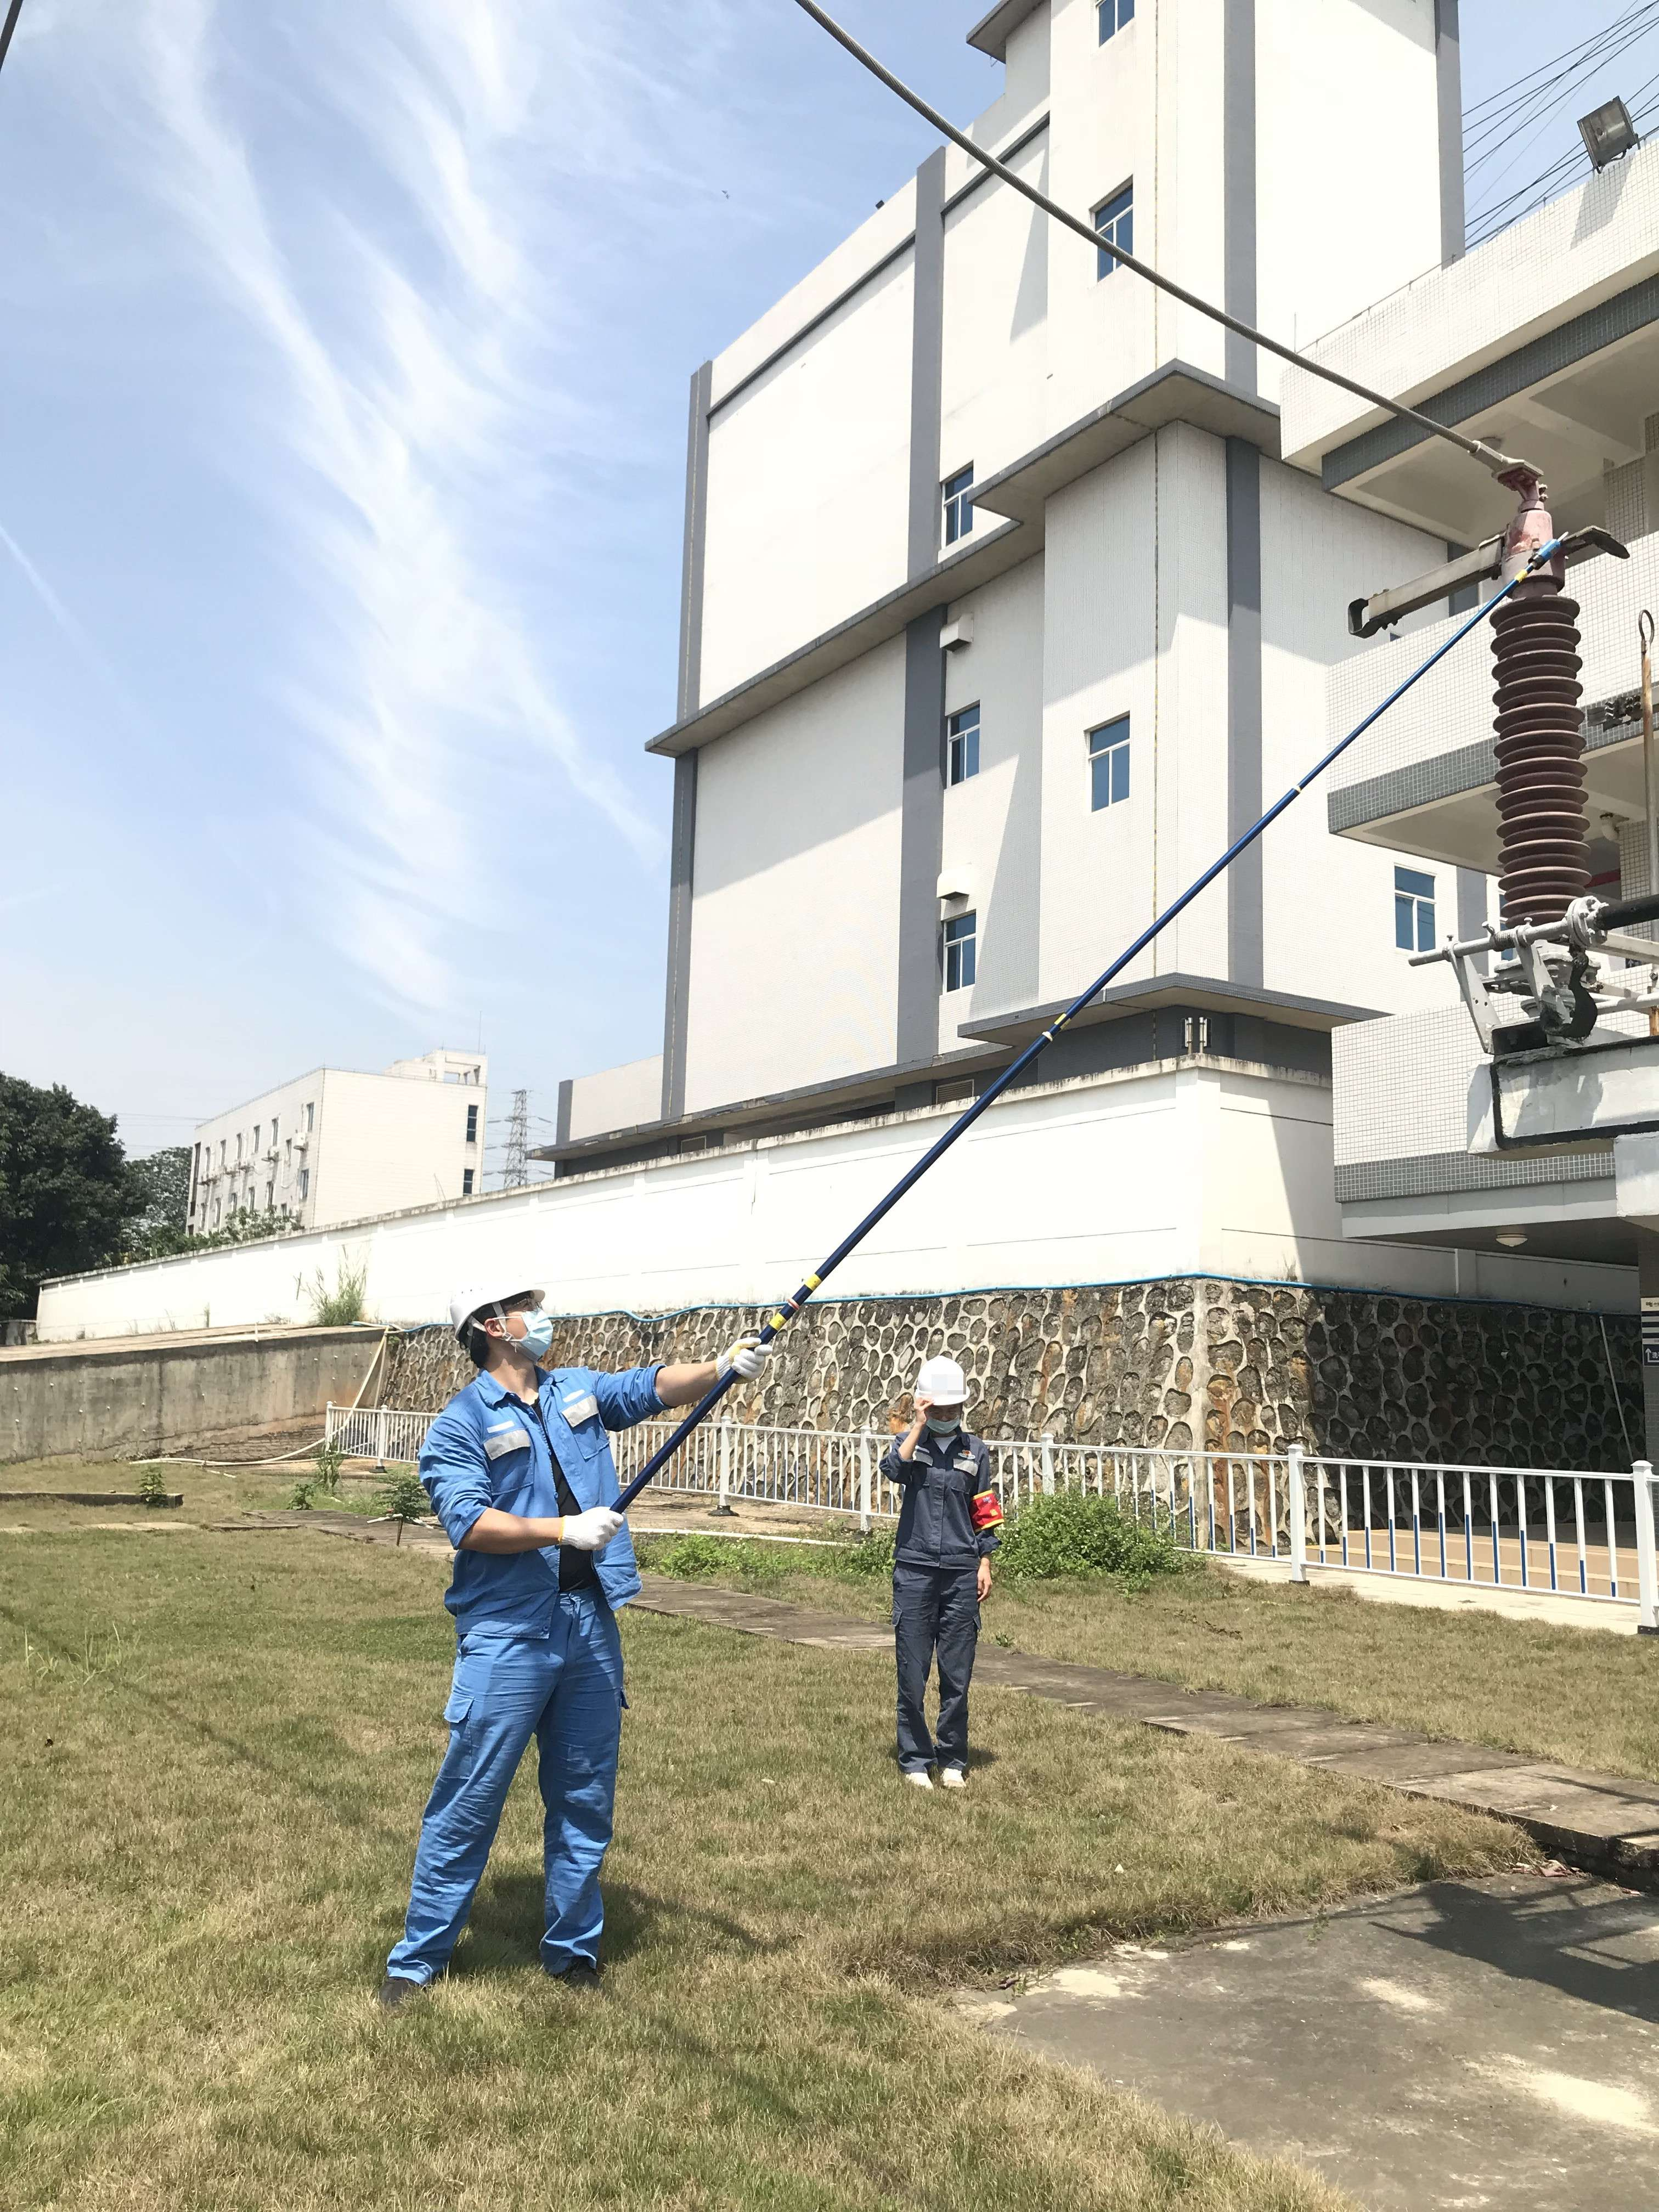downsuit: (411, 1627, 626, 1968), (892, 1580, 974, 1775)
upsuit: (427, 1372, 650, 1620), (885, 1430, 988, 1568)
wrongsuit: (500, 1388, 603, 1594)
wrongtop: (444, 1486, 563, 1561), (887, 1433, 917, 1479)
